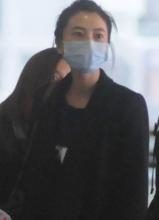OK: (65, 24, 113, 72)
